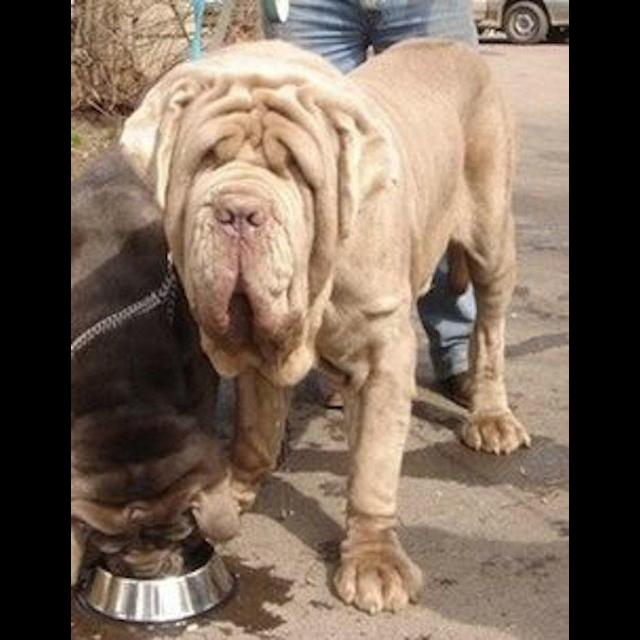mastino_napoletano: (121, 37, 534, 617), (73, 147, 224, 597)
person: (275, 1, 479, 405)
